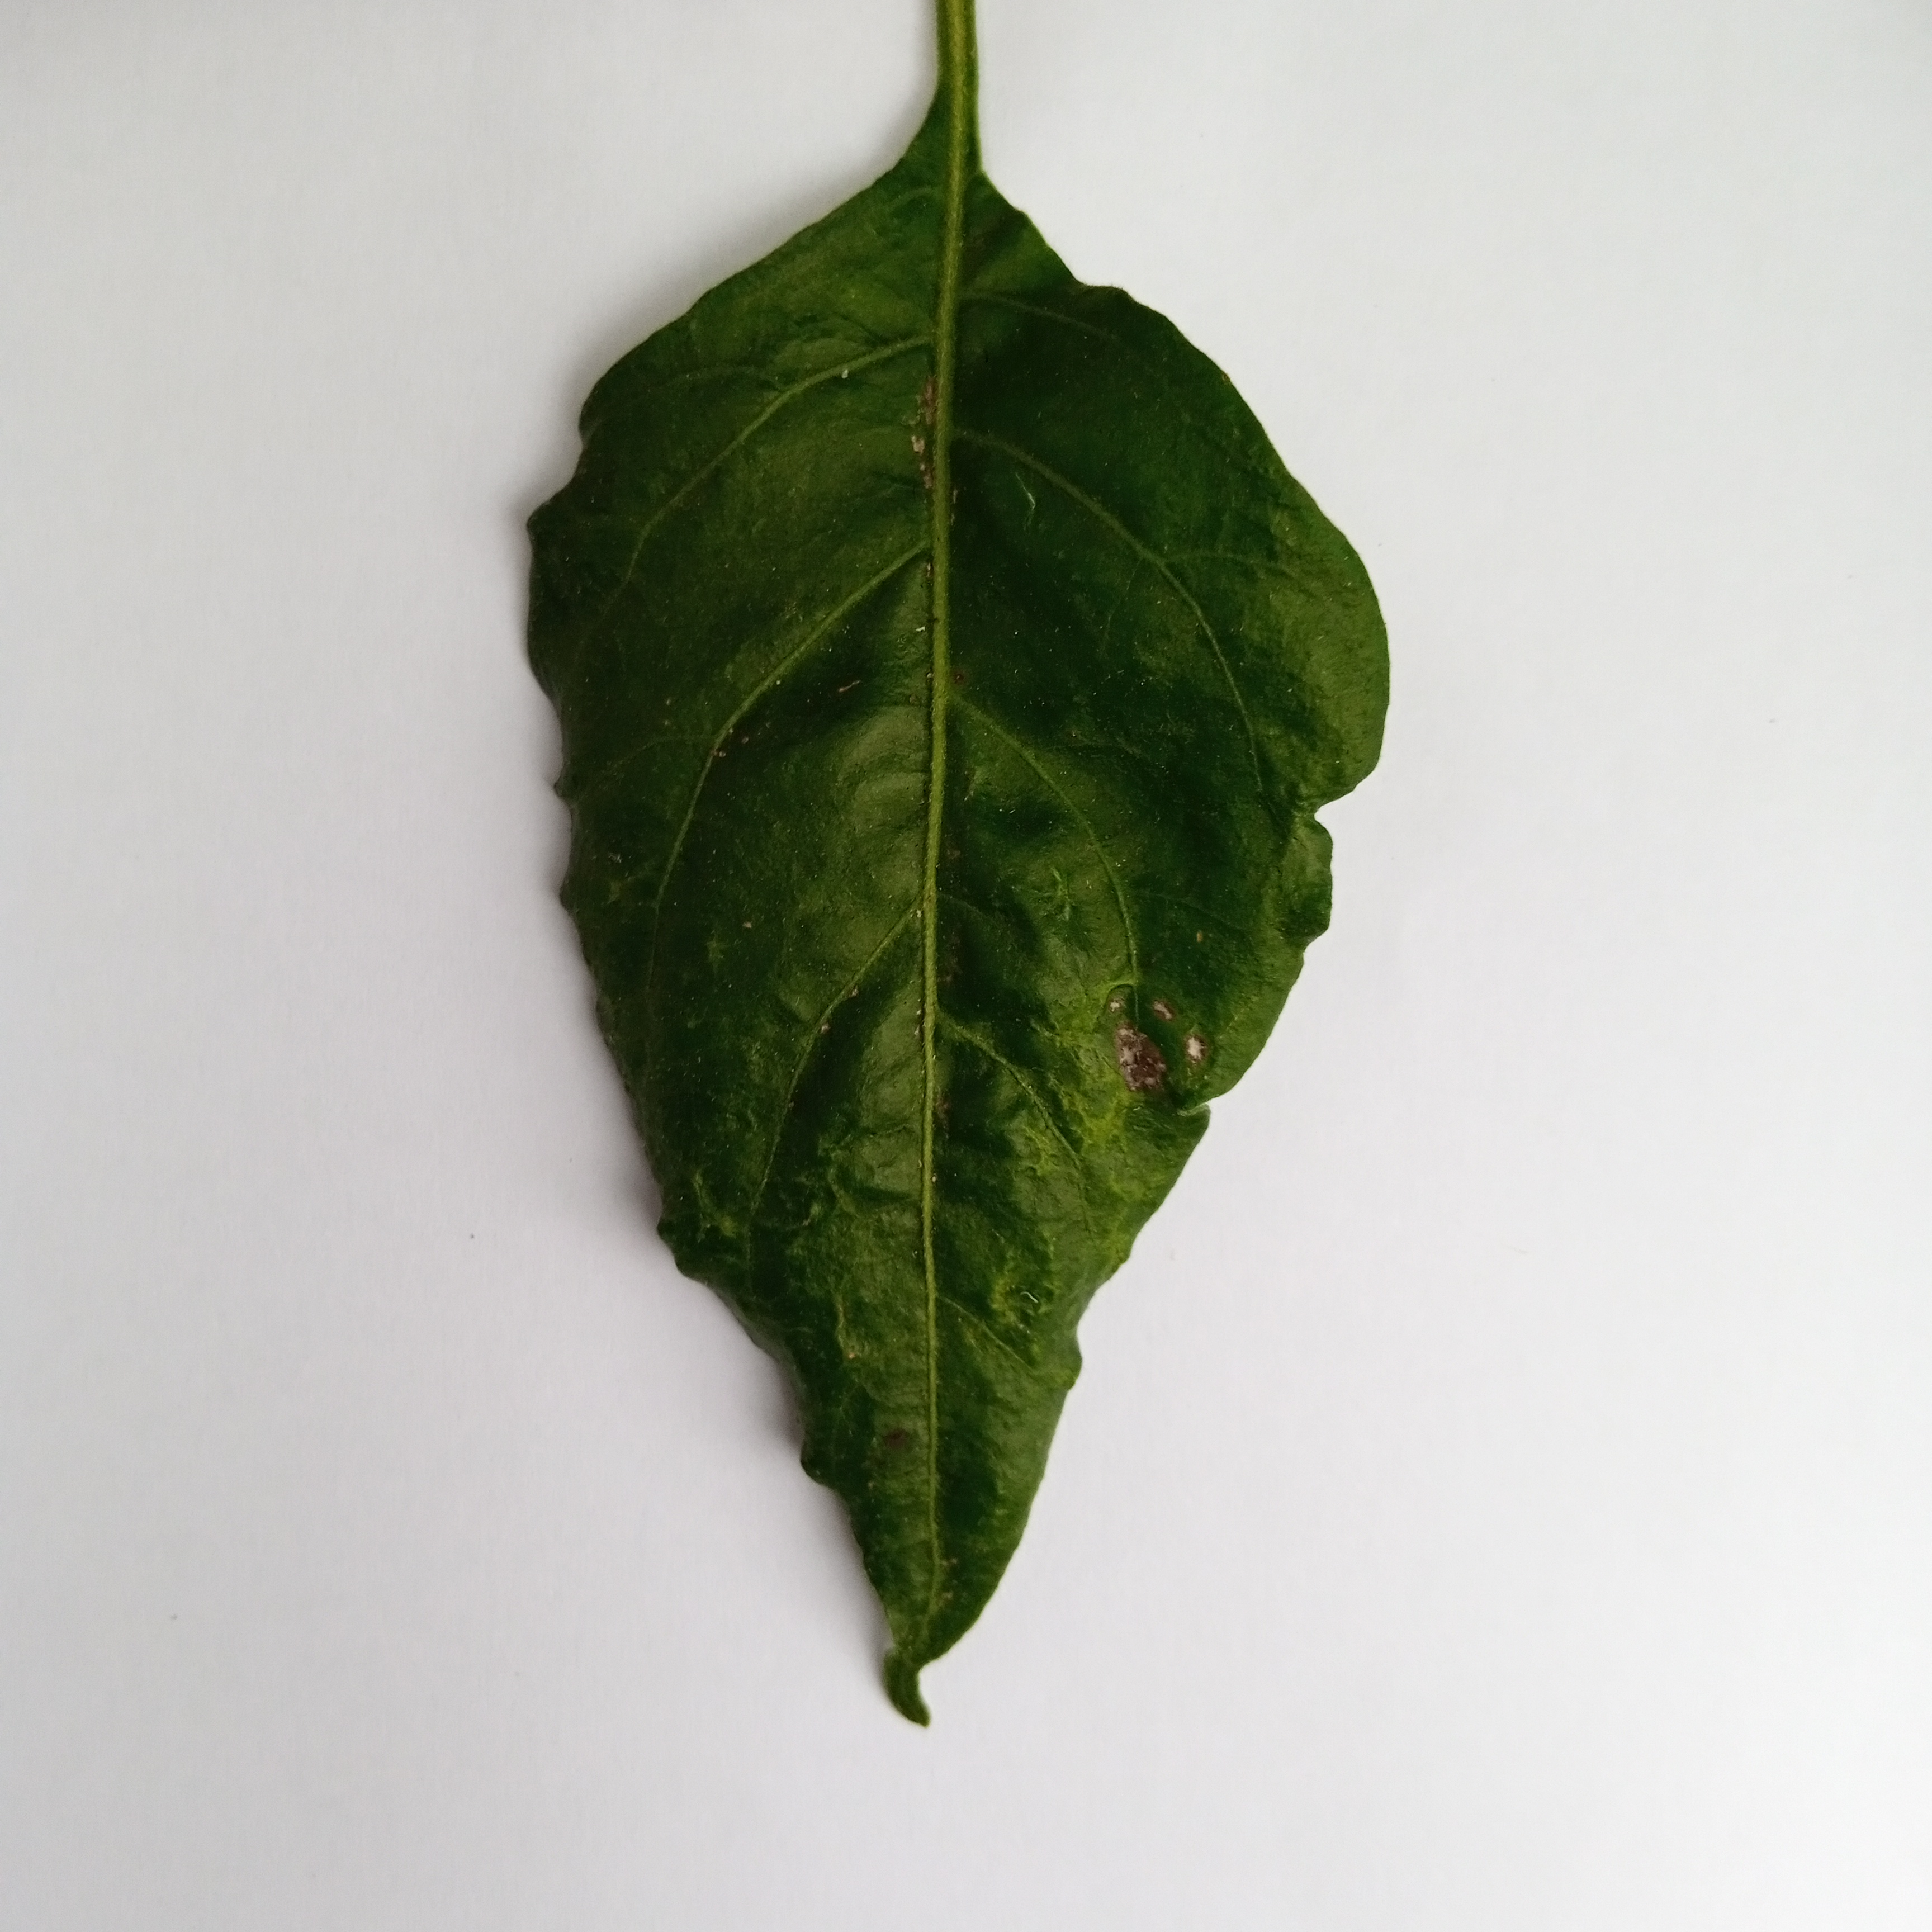Leaf: (391, 94, 1449, 1739)
